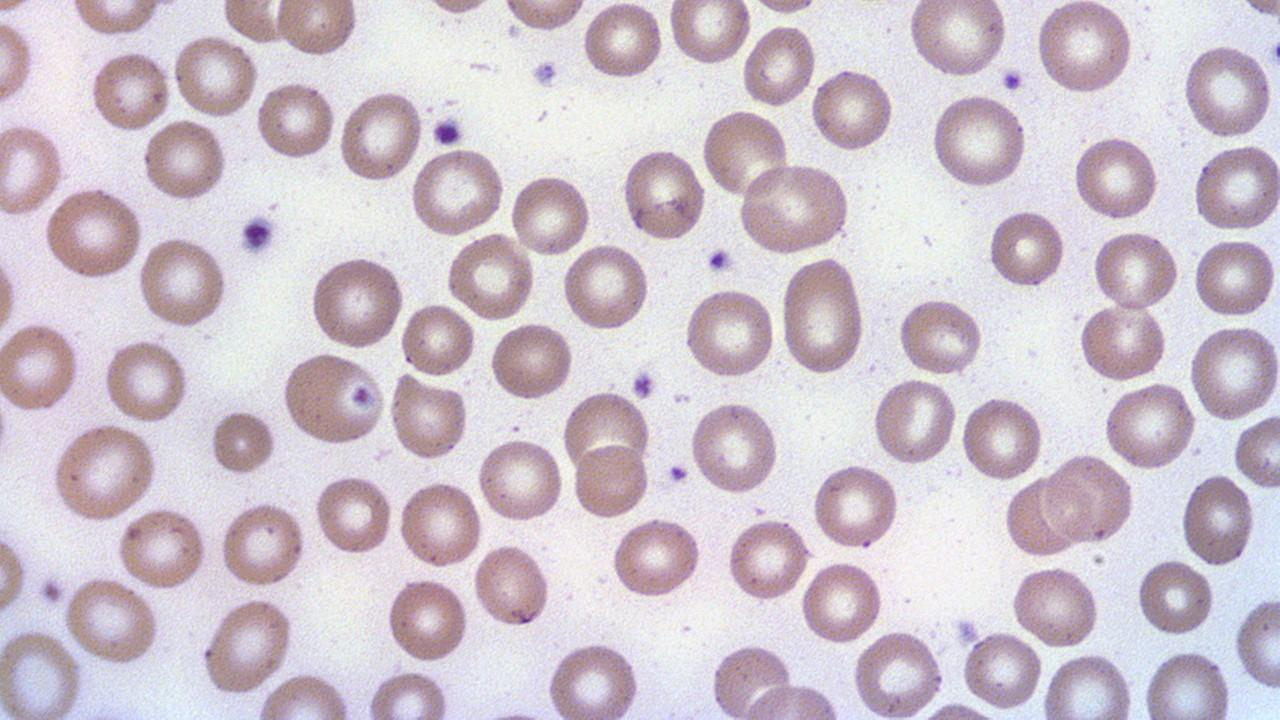Platelets: (237, 211, 280, 257), (430, 116, 466, 149), (529, 60, 562, 91), (630, 368, 658, 400), (705, 246, 736, 274), (664, 460, 692, 488), (998, 66, 1024, 92), (1268, 37, 1280, 71)
RBC: (49, 422, 159, 523), (778, 254, 868, 377), (735, 162, 852, 256), (280, 351, 388, 447), (199, 594, 297, 698), (928, 92, 1030, 191), (42, 185, 144, 283), (307, 253, 405, 352), (1035, 1, 1135, 97), (1186, 321, 1280, 423), (408, 144, 507, 238), (688, 397, 780, 498), (1181, 42, 1275, 140), (1101, 380, 1199, 474), (61, 575, 161, 667), (681, 285, 777, 380), (136, 232, 227, 332), (336, 86, 424, 188), (850, 625, 946, 718), (700, 107, 792, 201), (560, 240, 651, 334), (1044, 452, 1136, 544), (810, 460, 900, 554), (1191, 140, 1280, 235), (609, 514, 704, 602), (396, 476, 483, 572), (621, 145, 706, 243), (1010, 561, 1102, 651), (218, 496, 306, 590), (101, 335, 191, 426), (476, 434, 565, 526), (115, 504, 208, 592), (808, 63, 896, 156), (171, 30, 259, 122), (907, 1, 1009, 80), (542, 640, 645, 718), (444, 232, 534, 321), (384, 573, 470, 666), (141, 115, 229, 205), (1091, 226, 1181, 314), (1072, 132, 1160, 222), (798, 556, 884, 648), (0, 318, 81, 415), (564, 387, 652, 476), (960, 393, 1045, 485), (0, 624, 84, 717), (872, 376, 956, 468), (725, 515, 810, 605), (1180, 471, 1258, 569), (487, 318, 575, 404), (1076, 302, 1168, 384), (89, 46, 172, 136), (472, 540, 554, 630), (1191, 236, 1277, 320), (960, 626, 1044, 712), (894, 296, 984, 376), (510, 172, 593, 258), (740, 20, 818, 110), (313, 472, 394, 558), (388, 374, 467, 462), (579, 1, 663, 83), (708, 638, 794, 718), (987, 206, 1067, 292), (256, 79, 337, 162), (1003, 474, 1083, 558), (1139, 648, 1235, 717), (1135, 556, 1215, 638), (1039, 650, 1135, 718), (0, 120, 65, 220), (572, 440, 650, 520), (399, 300, 477, 380), (666, 1, 750, 69), (274, 1, 360, 60), (208, 406, 278, 478), (1232, 593, 1280, 693), (365, 666, 453, 718), (740, 678, 848, 720), (67, 1, 165, 39), (0, 13, 35, 114), (1232, 414, 1278, 488), (221, 1, 294, 45), (0, 520, 28, 630), (498, 0, 590, 33), (0, 230, 19, 348), (416, 0, 497, 18)
